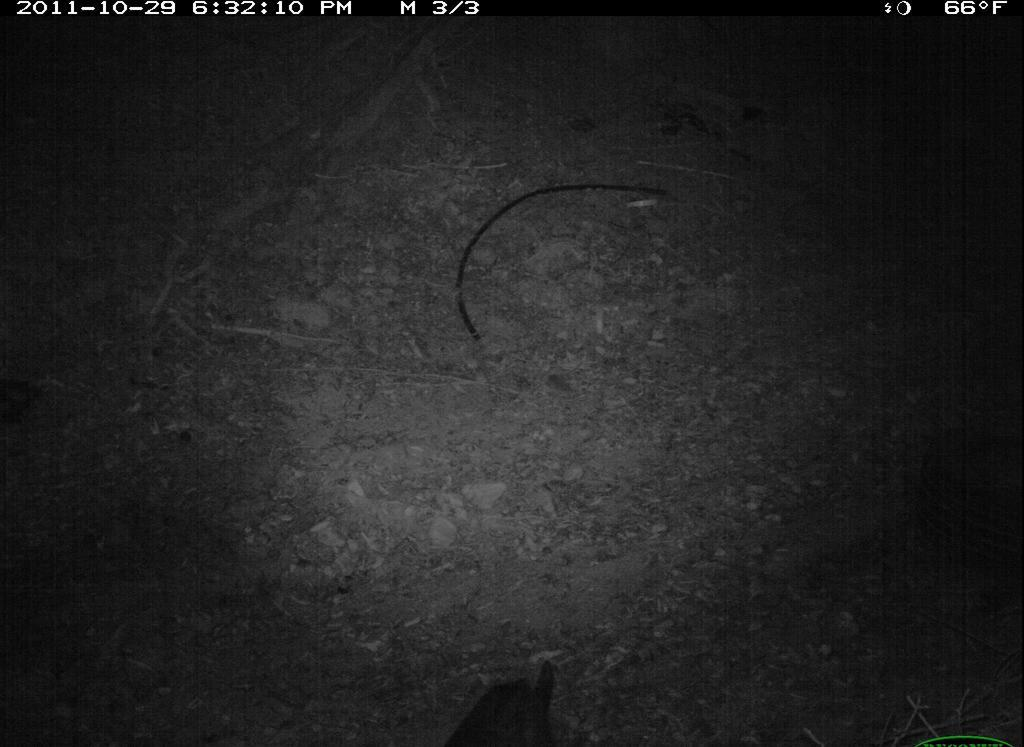cat: (438, 653, 565, 747)
